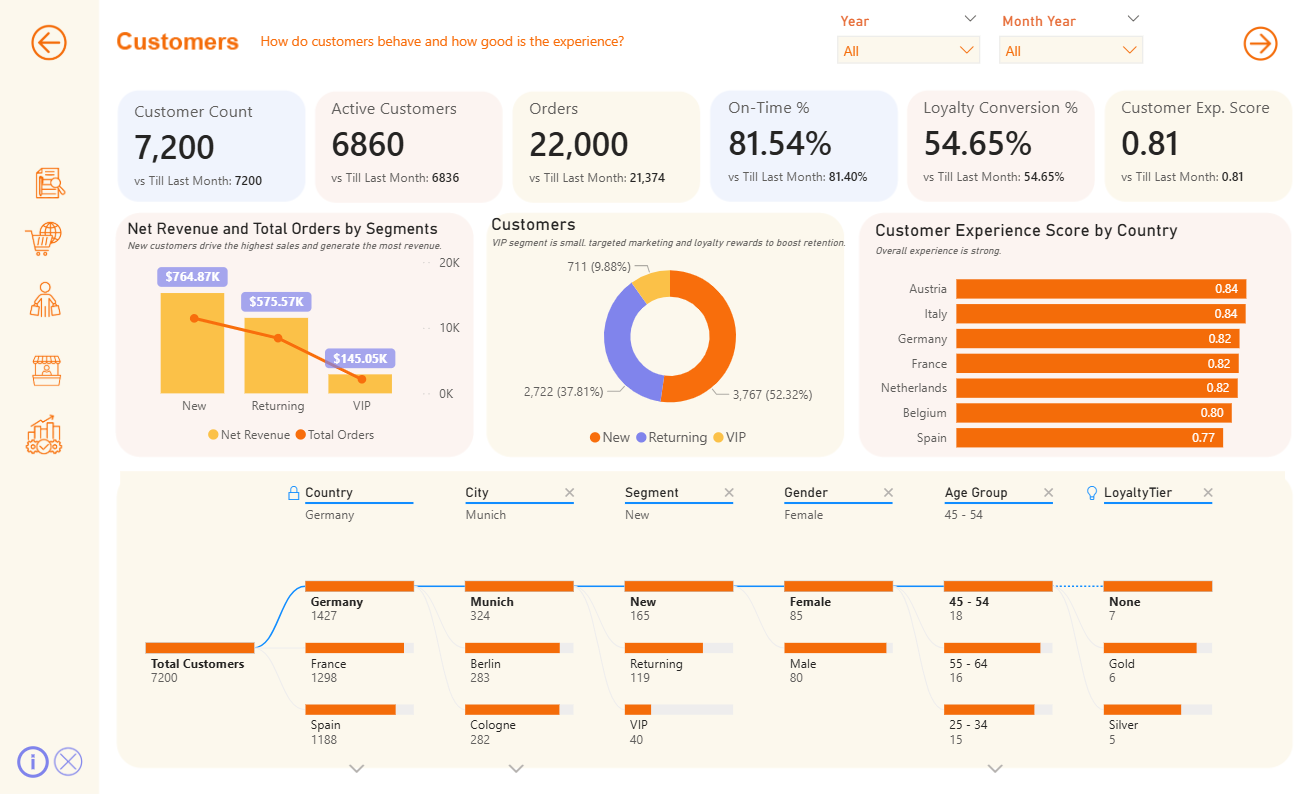

The dashboard page shown, as its layout file describes it:
{"tool":"powerbi","page":{"name":"Customers ","canvas":[1280,780],"ordinal":2},"visuals":[{"type":"lineClusteredColumnComboChart","title":"Net Revenue and Total Orders by Segments","fields":{"Category":["Customers_raw.Segment"],"Y":["Sum(Orders_2021_2024.NetRevenue)"],"Y2":["_Measures.Total Orders"]},"box":[120.6,218.8,333.6,227.6],"z":0},{"type":"donutChart","title":"Customers","fields":{"Category":["Customers_raw.Segment"],"Y":["_Measures.Customer Count"]},"box":[474.7,214,357.9,236.4],"z":1000},{"type":"cardVisual","fields":{"Data":["_Measures.On-Time %"]},"box":[705,104,151,111],"z":2000},{"type":"cardVisual","fields":{"Data":["_Measures.Customer Count"]},"box":[127,108,181,111],"z":3000},{"type":"cardVisual","fields":{"Data":["_Measures.Total Orders"]},"box":[512,105,156,111],"z":4000},{"type":"textbox","box":[250,31,376,34],"z":5000},{"type":"cardVisual","fields":{"Data":["_Measures.Active Customers"]},"box":[319,105,183,111],"z":6000},{"type":"decompositionTreeVisual","fields":{"Analyze":["Count(Customers_raw.CustomerID)"],"ExplainBy":["Customers_raw.Country","Customers_raw.City","Customers_raw.Segment","Customers_raw.Gender","Customers_raw.Age Group","Customers_raw.LoyaltyTier"]},"box":[113.4,458.8,1143.3,306.2],"z":7000},{"type":"cardVisual","fields":{"Data":["_Measures.Loyalty Conversion %"]},"box":[895,104,229,111],"z":8000},{"type":"cardVisual","fields":{"Data":["_Measures.Customer Experience Score"]},"box":[1087,104,193,111],"z":9000},{"type":"clusteredBarChart","fields":{"Category":["Customers_raw.Country"],"Y":["_Measures.Customer Experience Score"]},"box":[848.1,219.8,424.1,236.4],"z":10000},{"type":"image","box":[9.3,160.8,79,49],"z":11000},{"type":"image","box":[9.3,208.8,70,58],"z":12000},{"type":"image","box":[1190.7,12.4,75.3,70.1],"z":13000},{"type":"image","box":[9.3,267.8,70,58],"z":14000},{"type":"image","box":[5.2,8.2,78.4,78.4],"z":15000},{"type":"image","box":[9.3,338.8,79,58],"z":16000},{"type":"image","box":[9.3,404.8,70,51],"z":17000},{"type":"actionButton","box":[13.6,726.6,44.7,40.9],"z":19000},{"type":"image","box":[36,727,63,40],"z":20000},{"type":"slicer","fields":{"Values":["Calendar.Year"]},"box":[806.3,12.6,158.5,62.2],"z":21000},{"type":"slicer","fields":{"Values":["Calendar.Month Year"]},"box":[963.9,12.6,159.5,62.2],"z":22000}]}

Visuals, with their boxes in screenshot pixels (x1, y1, x2, y2), scaled from the page's 1280x780 canvas onto the 1311x794 screenshot:
"Net Revenue and Total Orders by Segments" lineClusteredColumnComboChart: [124, 223, 465, 454]
"Customers" donutChart: [486, 218, 853, 458]
cardVisual - _Measures.On-Time %: [722, 106, 877, 219]
cardVisual - _Measures.Customer Count: [130, 110, 315, 223]
cardVisual - _Measures.Total Orders: [524, 107, 684, 220]
textbox: [256, 32, 641, 66]
cardVisual - _Measures.Active Customers: [327, 107, 514, 220]
decompositionTreeVisual - Count(Customers_raw.CustomerID) x Customers_raw.Country: [116, 467, 1287, 779]
cardVisual - _Measures.Loyalty Conversion %: [917, 106, 1151, 219]
cardVisual - _Measures.Customer Experience Score: [1113, 106, 1310, 219]
clusteredBarChart - Customers_raw.Country x _Measures.Customer Experience Score: [869, 224, 1303, 464]
image: [10, 164, 90, 214]
image: [10, 213, 81, 272]
image: [1220, 13, 1297, 84]
image: [10, 273, 81, 332]
image: [5, 8, 86, 88]
image: [10, 345, 90, 404]
image: [10, 412, 81, 464]
actionButton: [14, 740, 60, 781]
image: [37, 740, 101, 781]
slicer - Calendar.Year: [826, 13, 988, 76]
slicer - Calendar.Month Year: [987, 13, 1151, 76]
